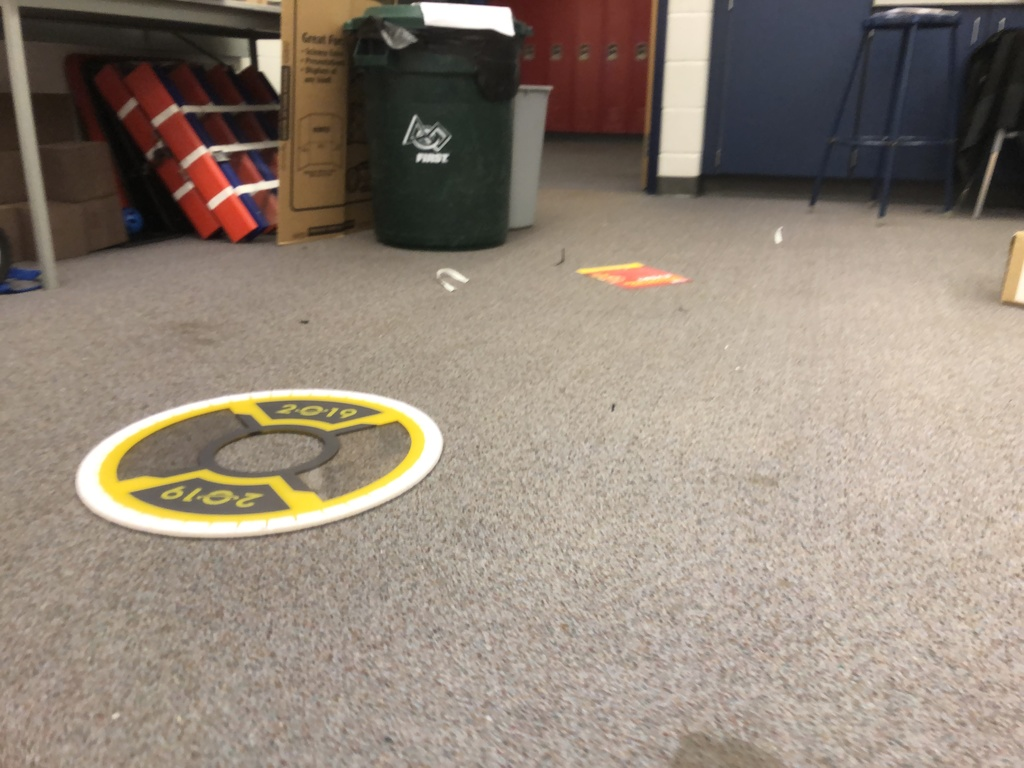hatch_panel: (69, 381, 469, 534)
